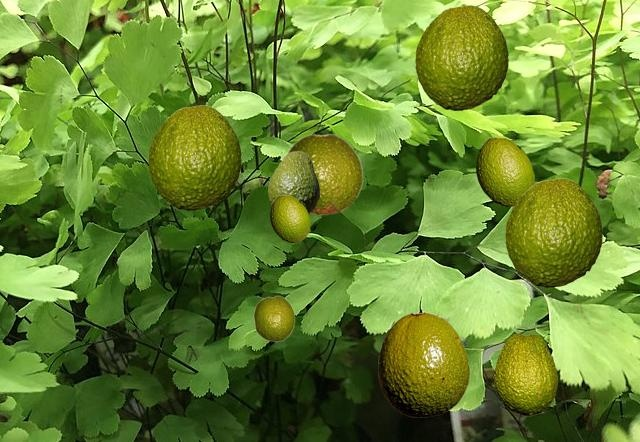avocado: (505, 178, 601, 286), (148, 105, 240, 209), (415, 5, 507, 109), (378, 312, 468, 416), (285, 133, 363, 214), (494, 333, 556, 414), (476, 137, 533, 205), (268, 151, 318, 213), (253, 295, 294, 341), (270, 195, 309, 241)
